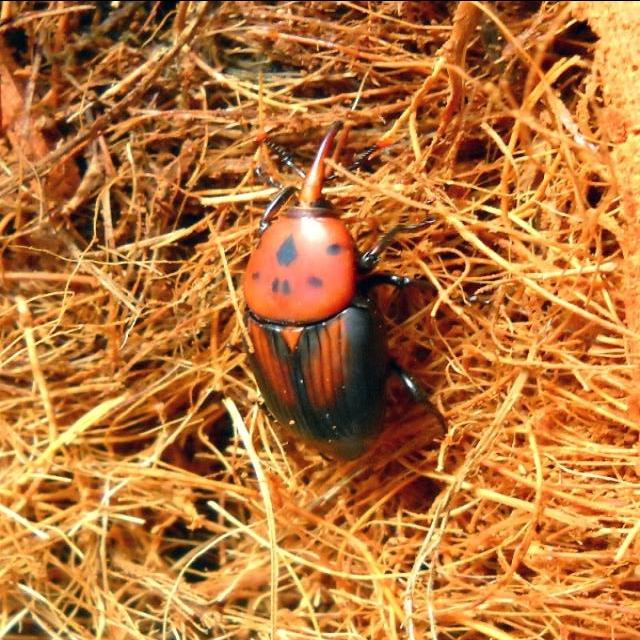Red-palm-weevil: (242, 135, 406, 469)
